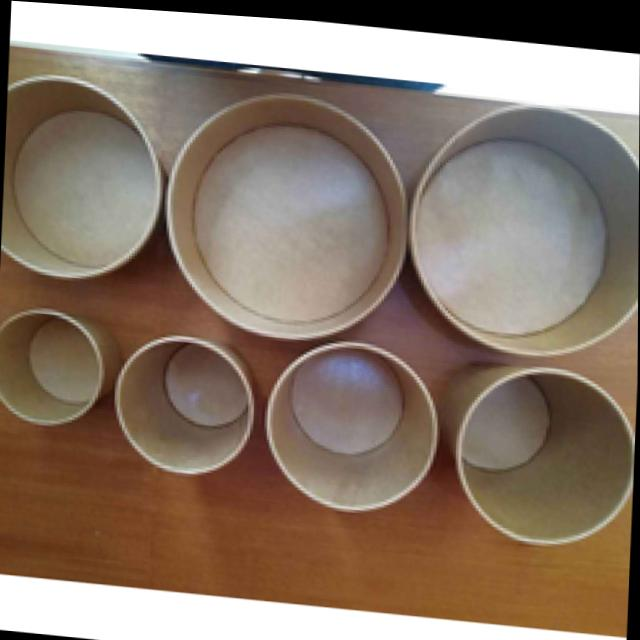paper_cups: (159, 76, 402, 345), (401, 87, 640, 359), (439, 348, 638, 549), (259, 330, 446, 519), (0, 89, 163, 287), (114, 325, 258, 478), (0, 301, 121, 434)
